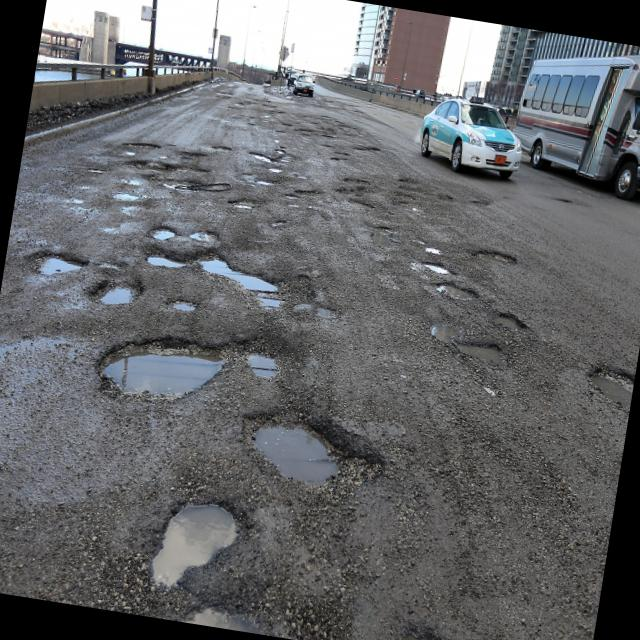Potholes: (87, 307, 298, 418), (234, 391, 398, 520), (140, 226, 306, 324), (133, 486, 250, 600), (419, 240, 492, 316), (15, 234, 89, 288), (169, 131, 224, 203), (84, 260, 147, 320), (460, 227, 527, 278), (370, 612, 473, 640), (580, 356, 638, 402), (486, 305, 542, 345), (446, 343, 503, 376)
